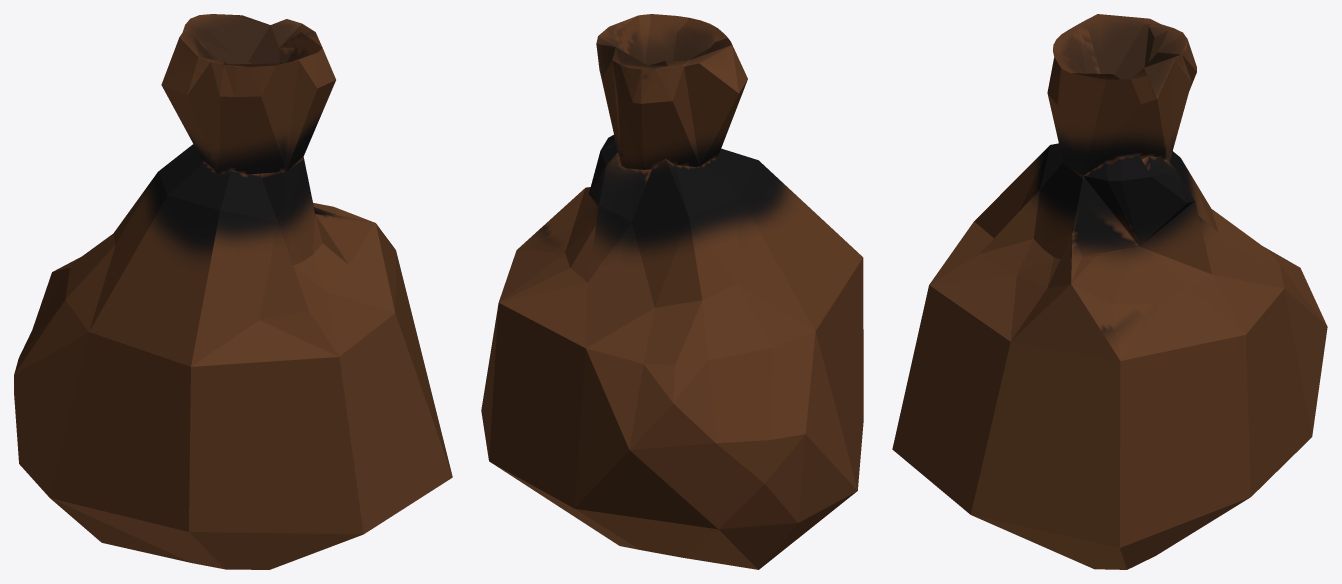
File: loot.fbx
The picture shows the model from 3 angles, left to right: view 1: azimuth 30°, elevation 25°; view 2: azimuth 150°, elevation 25°; view 3: azimuth 270°, elevation 25°; orthographic projection. The views are drawn at different scales.
Parts seen in each view (by area): view 1: Sphere; view 2: Sphere; view 3: Sphere.
Boxes of the visible parts, box(x1,y1,x2,y2) form: Sphere: box(14, 14, 452, 569); Sphere: box(481, 14, 863, 569); Sphere: box(892, 14, 1327, 569).
Size of the model in its own units: 198 by 258 by 199.
Materials: 1 (1 with a texture image).
